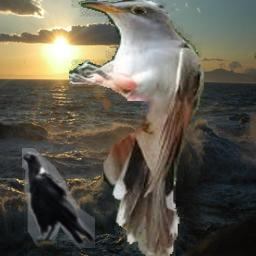Crow: (22, 148, 95, 248)
Cuckoo: (69, 0, 205, 256), (141, 33, 186, 136)
